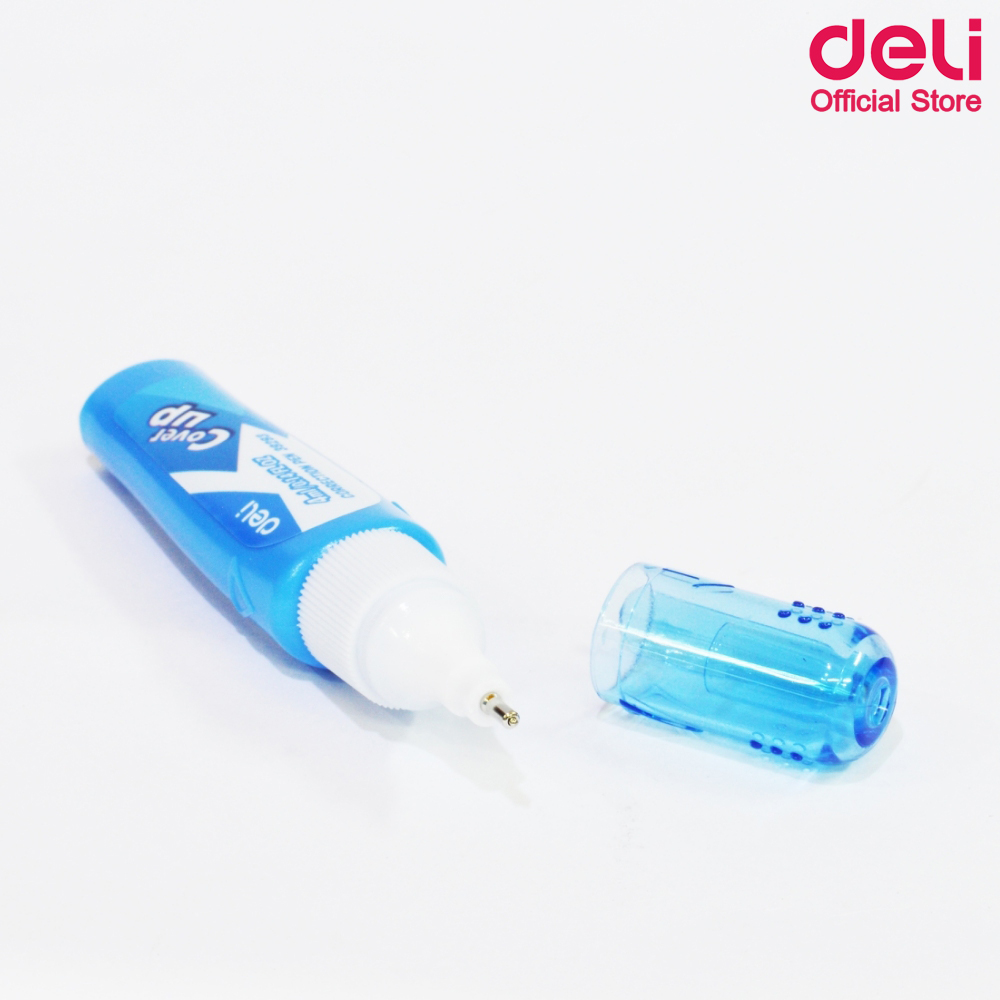Correction_fluid: (76, 350, 534, 755)
